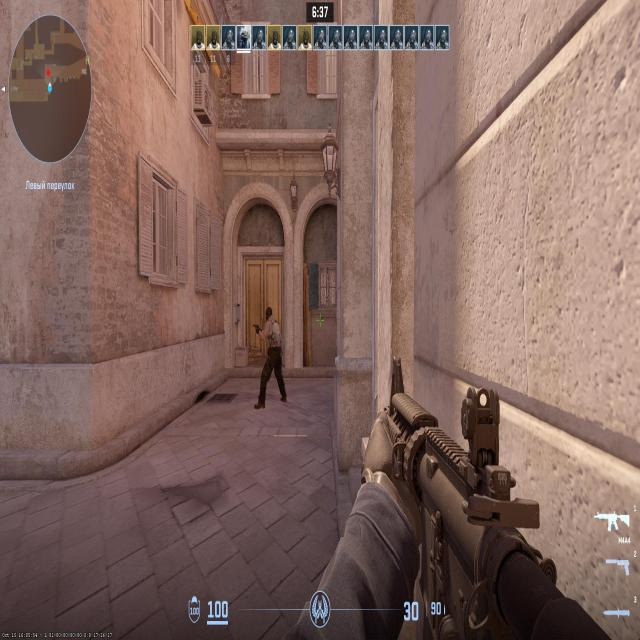T: (258, 310, 284, 403)
T_heat: (267, 311, 271, 318)
